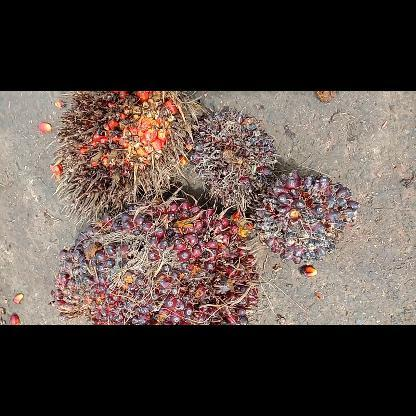TBS abnormal: (259, 167, 361, 269), (188, 107, 278, 213)
TBS masak: (49, 198, 263, 324)
Terlalu masak: (47, 91, 202, 229)
